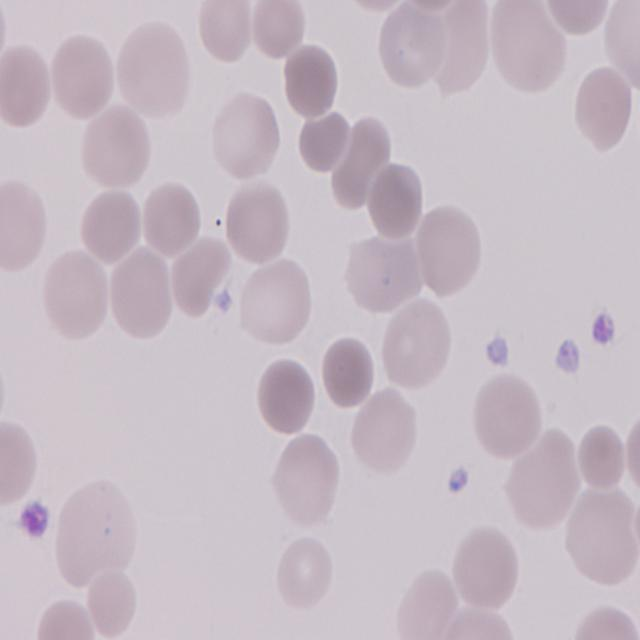RBC: (52, 476, 134, 590), (112, 14, 193, 120), (566, 484, 640, 590), (236, 254, 314, 350), (490, 0, 567, 94), (270, 431, 342, 530), (468, 366, 542, 461), (414, 204, 486, 301), (379, 299, 454, 392), (346, 384, 418, 479), (78, 100, 152, 192), (211, 88, 283, 182), (452, 521, 522, 610), (50, 32, 118, 123), (224, 179, 294, 264), (44, 253, 110, 343), (272, 531, 340, 618), (109, 250, 174, 338), (574, 62, 636, 154), (78, 184, 144, 265), (0, 177, 49, 277), (143, 177, 204, 256), (0, 42, 51, 130), (576, 422, 630, 497), (0, 412, 39, 512), (198, 0, 254, 65), (250, 0, 306, 63), (26, 596, 99, 640), (608, 0, 640, 94), (546, 0, 614, 39), (569, 603, 636, 640)
Spherocyte: (252, 354, 316, 438), (368, 158, 427, 240), (319, 334, 379, 412), (282, 42, 341, 120)
